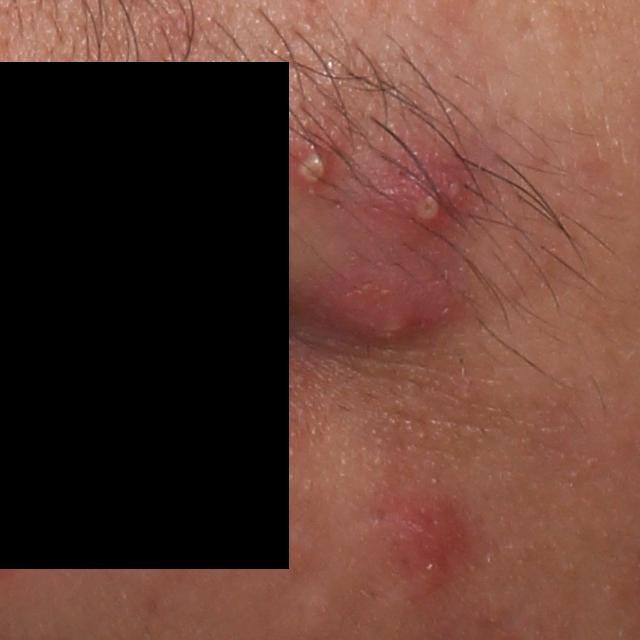papule: (341, 272, 435, 357), (395, 497, 470, 565)
